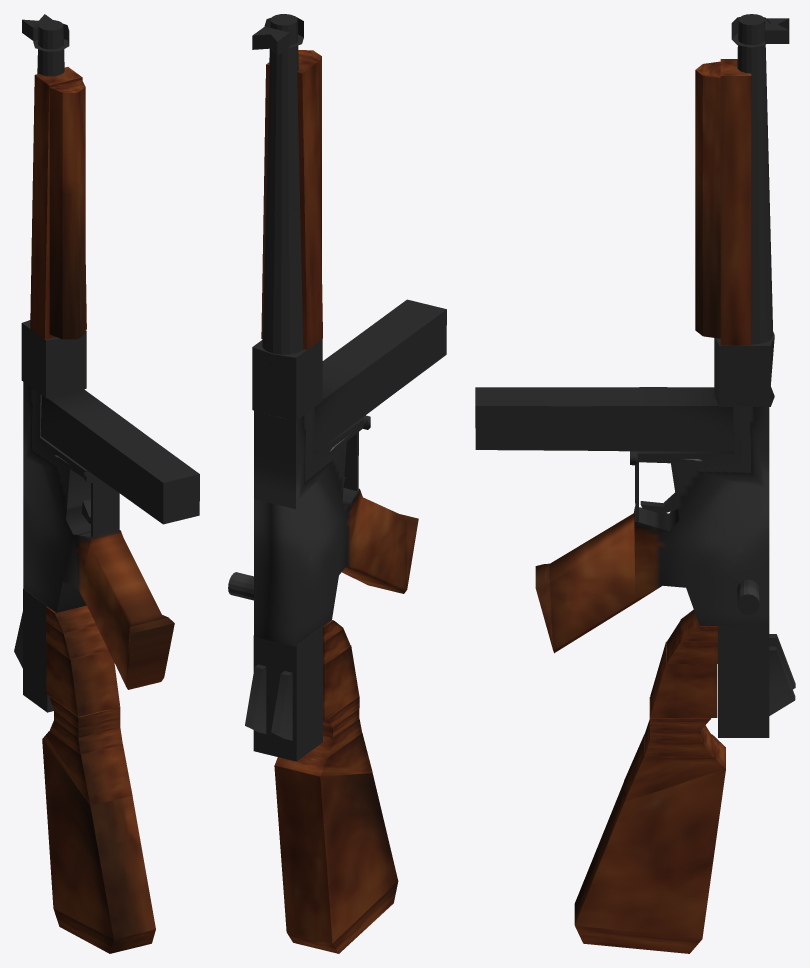
The model's file is Thompson.fbx.
3 views of the same model, side by side, from view 1: azimuth 30°, elevation 25°; view 2: azimuth 150°, elevation 25°; view 3: azimuth 270°, elevation 25° (orthographic). The views are drawn at different scales.
Visible parts, largest first — view 1: node_9dd0f6f6_31ed_4a20_9721_c0e673ea2e27_mesh0; view 2: node_9dd0f6f6_31ed_4a20_9721_c0e673ea2e27_mesh0; view 3: node_9dd0f6f6_31ed_4a20_9721_c0e673ea2e27_mesh0.
Part boxes in pixels (x1=…): node_9dd0f6f6_31ed_4a20_9721_c0e673ea2e27_mesh0: x1=14, y1=14, x2=199, y2=953; node_9dd0f6f6_31ed_4a20_9721_c0e673ea2e27_mesh0: x1=228, y1=14, x2=446, y2=953; node_9dd0f6f6_31ed_4a20_9721_c0e673ea2e27_mesh0: x1=475, y1=14, x2=795, y2=953.
Bounding box in the file's own units: 0.0331 × 0.3967 × 0.1248.
